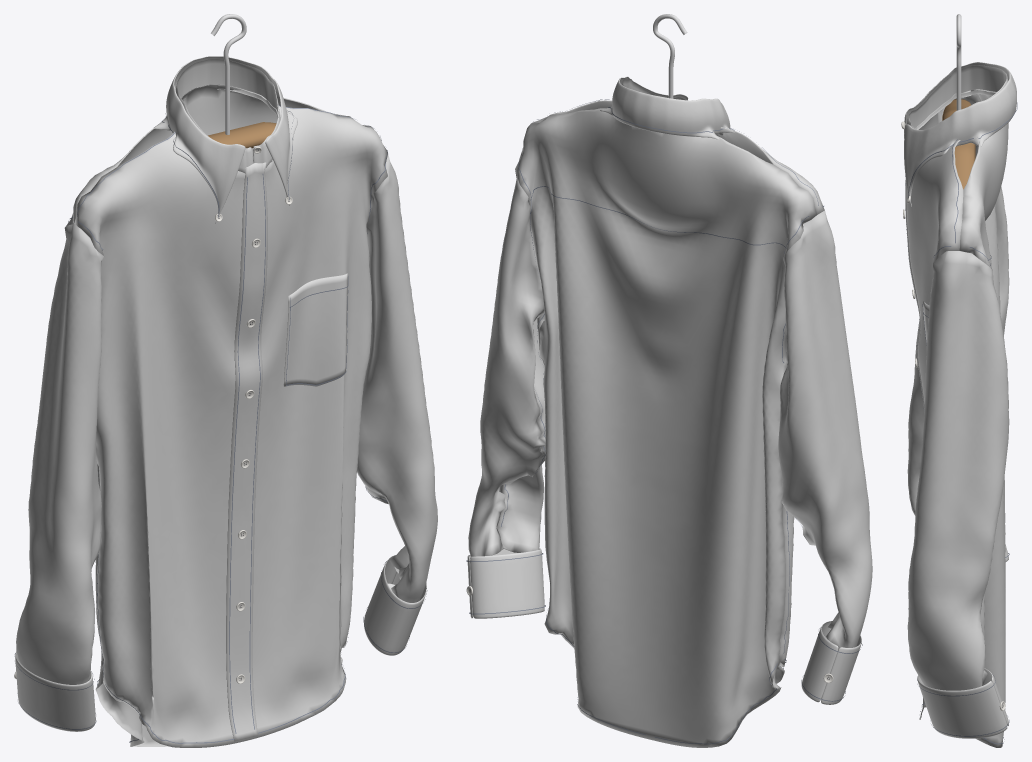
Rendered from shirt.glb.
3 views of the same model, side by side, from view 1: azimuth 30°, elevation 25°; view 2: azimuth 150°, elevation 25°; view 3: azimuth 270°, elevation 25° (orthographic). The views are drawn at different scales.
Visible parts, largest first — view 1: cloth-shirt, stitch, hanger-wood, hook; view 2: cloth-shirt, stitch, hook; view 3: cloth-shirt, hanger-wood, stitch, hook.
Part boxes in pixels (<box>): cloth-shirt: <box>15,56,437,747</box>; stitch: <box>14,105,427,743</box>; hanger-wood: <box>208,122,276,148</box>; hook: <box>211,14,246,134</box>; cloth-shirt: <box>467,76,872,747</box>; stitch: <box>466,99,862,744</box>; hook: <box>653,14,687,98</box>; cloth-shirt: <box>904,62,1016,747</box>; hanger-wood: <box>942,99,975,189</box>; stitch: <box>905,102,1017,744</box>; hook: <box>956,14,961,110</box>.
Bounding box in the file's own units: 0.537 × 0.9382 × 0.1392.
